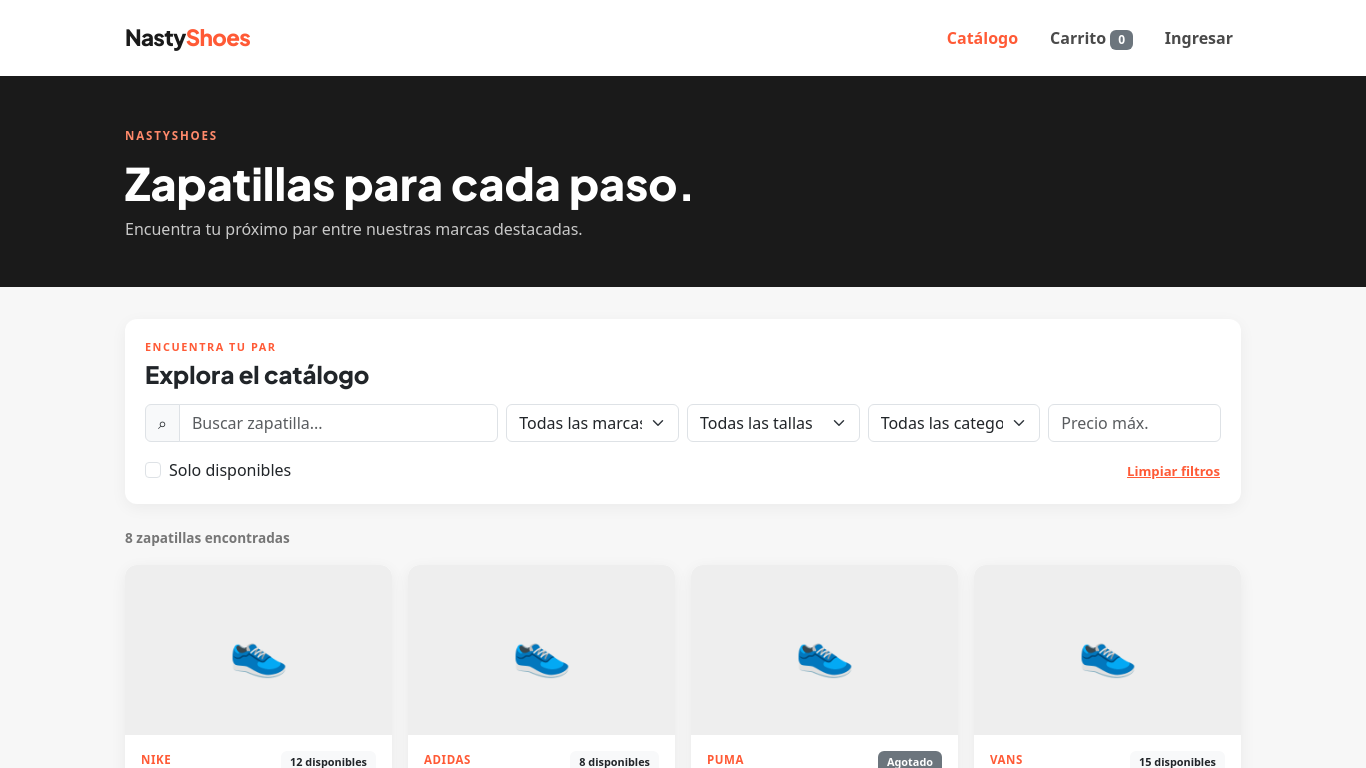
Test: App › permite iniciar sesión como administrador y ver el panel de administración
Click the button "Ingresar" at (1199, 38), box [1165,27,1233,49]
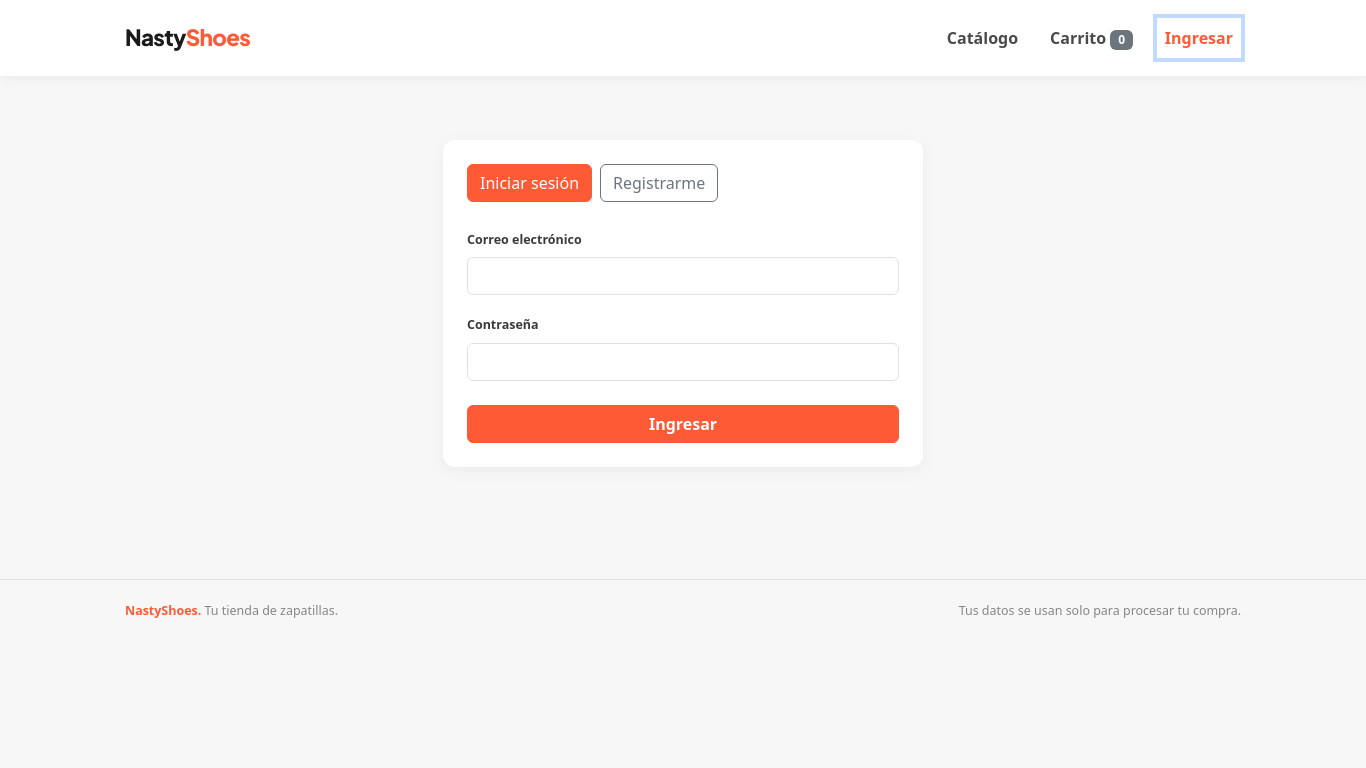
Type "admin@nastyshoes.cl" into the field labelled "Correo electrónico" at (683, 276), box [467,257,899,295]
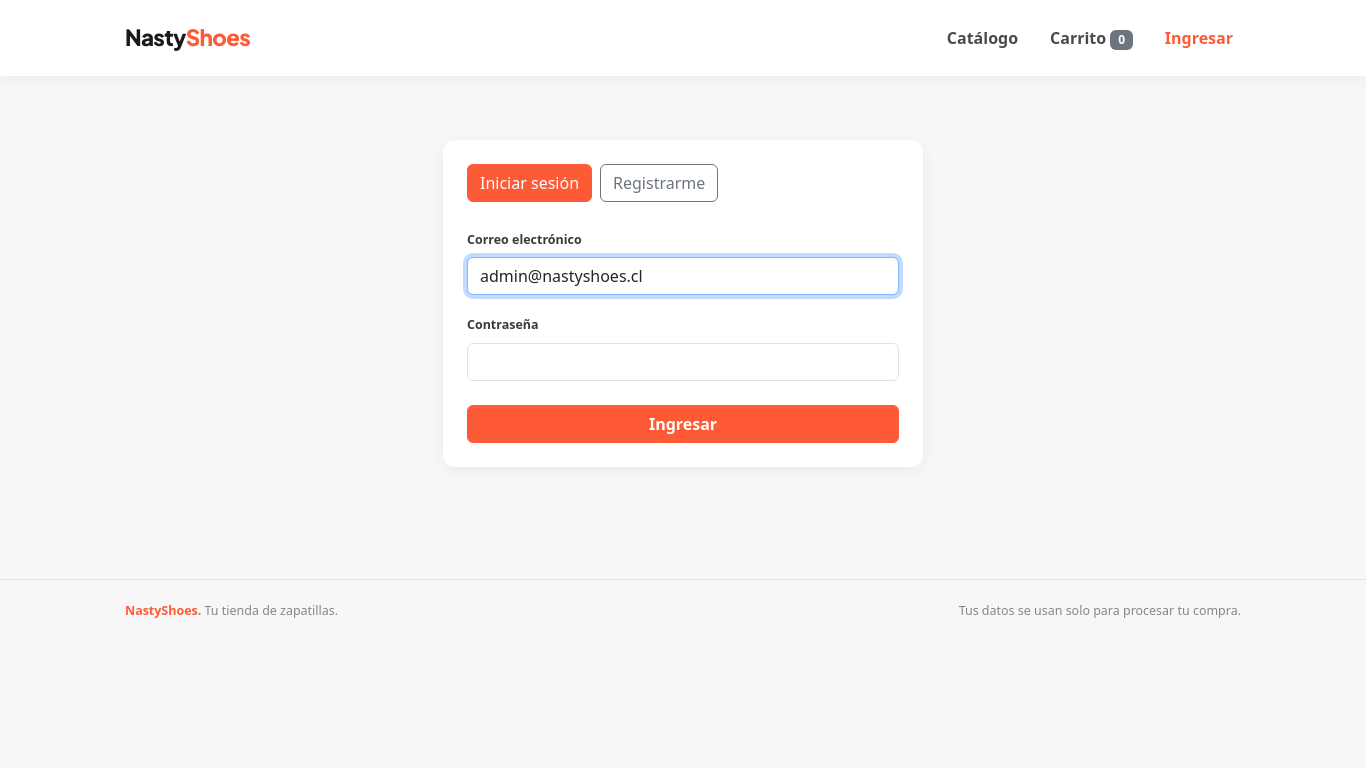
Type "admin123" into the password field labelled "Contraseña" at (683, 362), box [467,343,899,381]
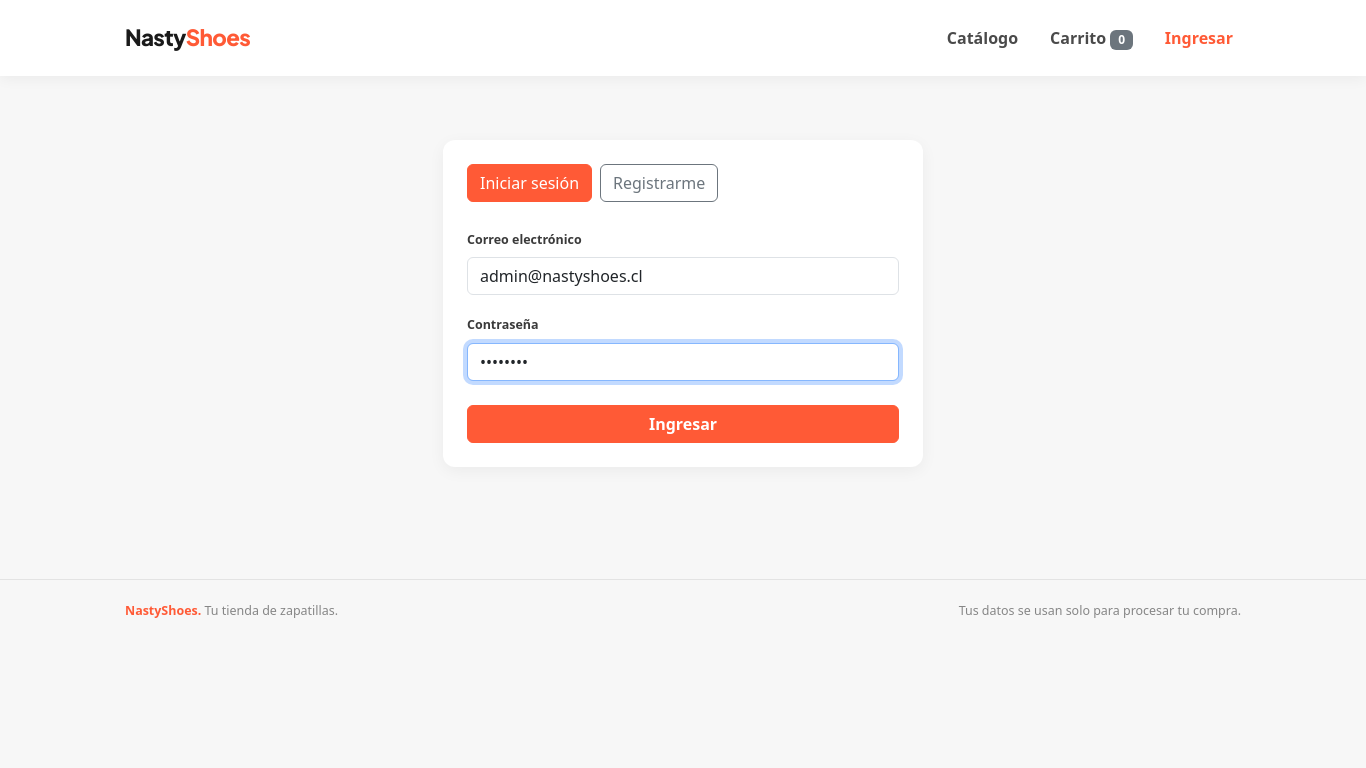
Click the button "Ingresar" below "Contraseña" at (683, 424), box [467,405,899,443]
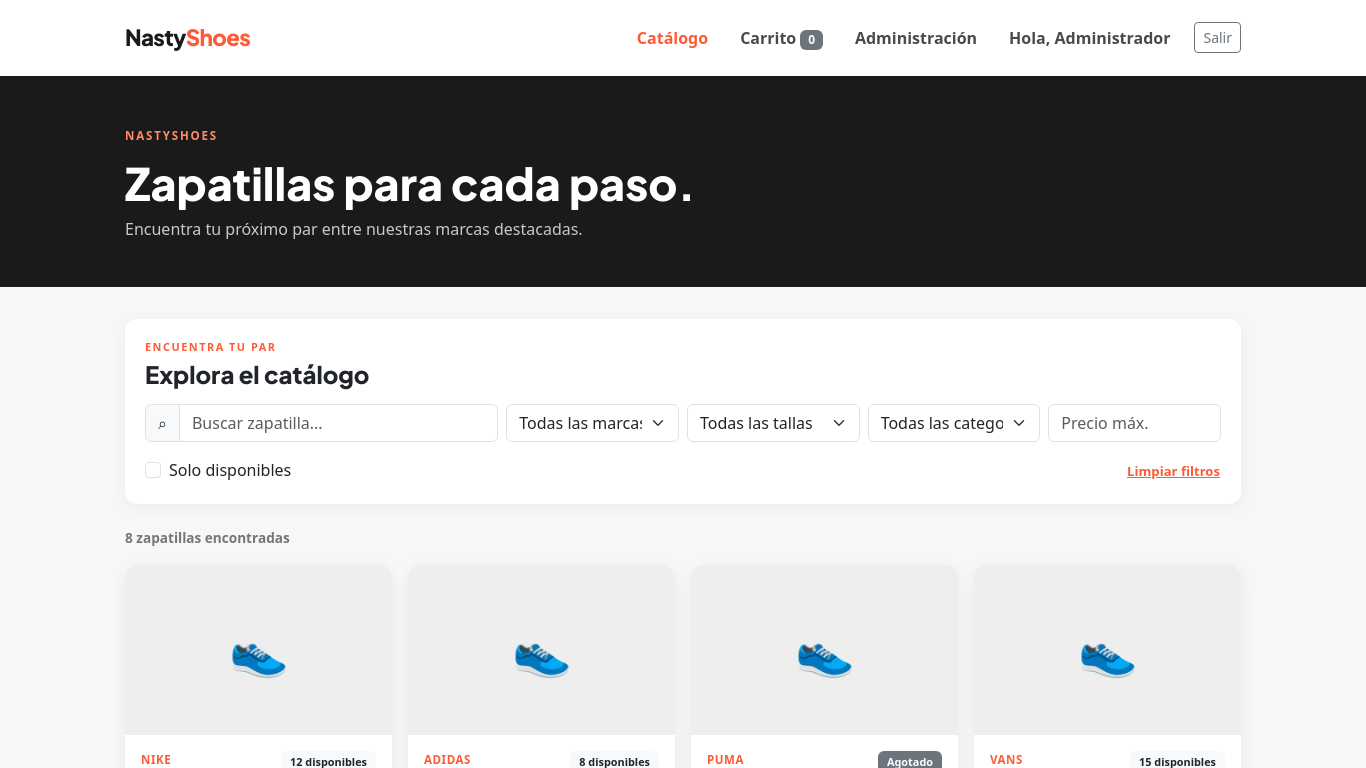
Result: the button "Hola, Administrador" is shown at [1009,27,1170,49]
Click the button "Administración" at (916, 38), box [855,27,977,49]
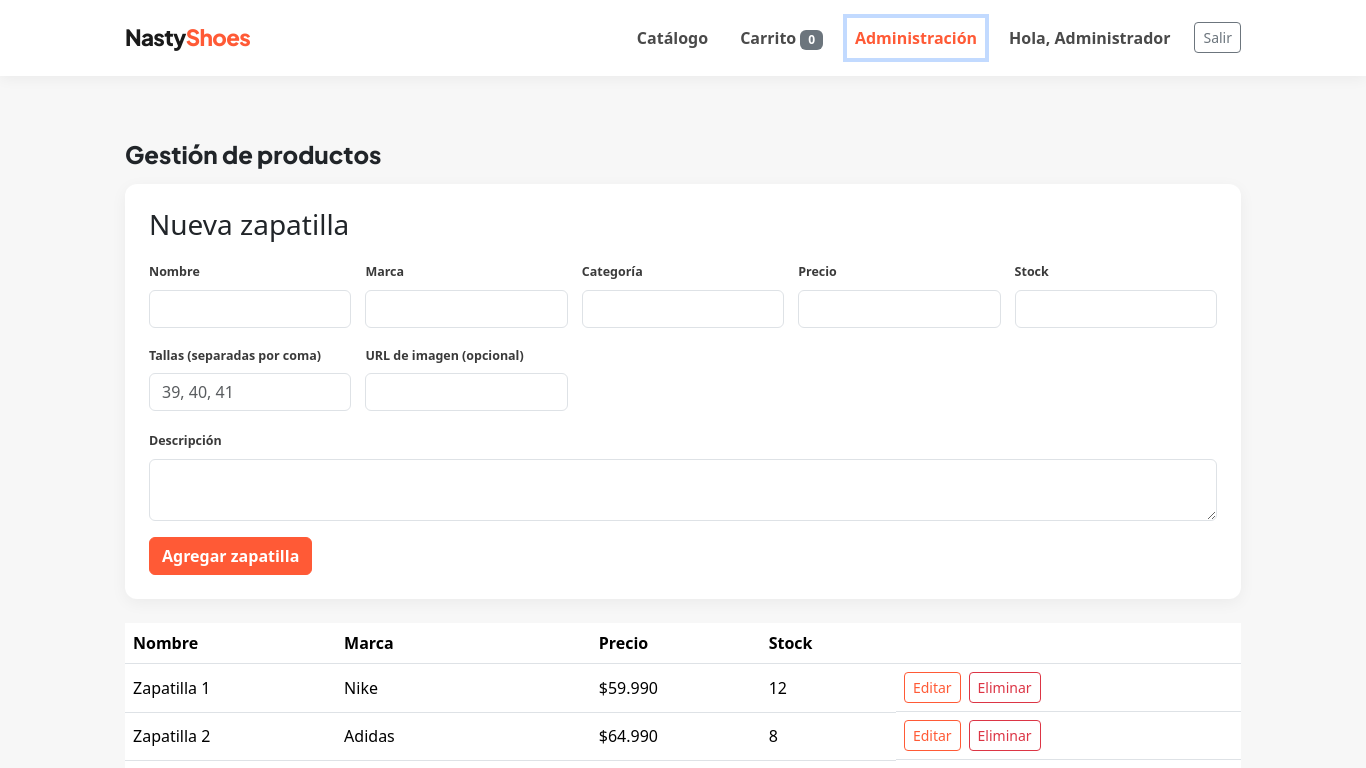
Result: the heading "Gestión de productos" is shown at [125,139,382,169]
